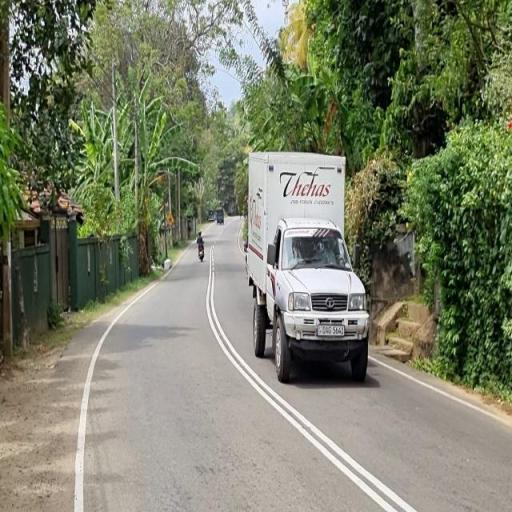double_white_line: (206, 286, 418, 512)
